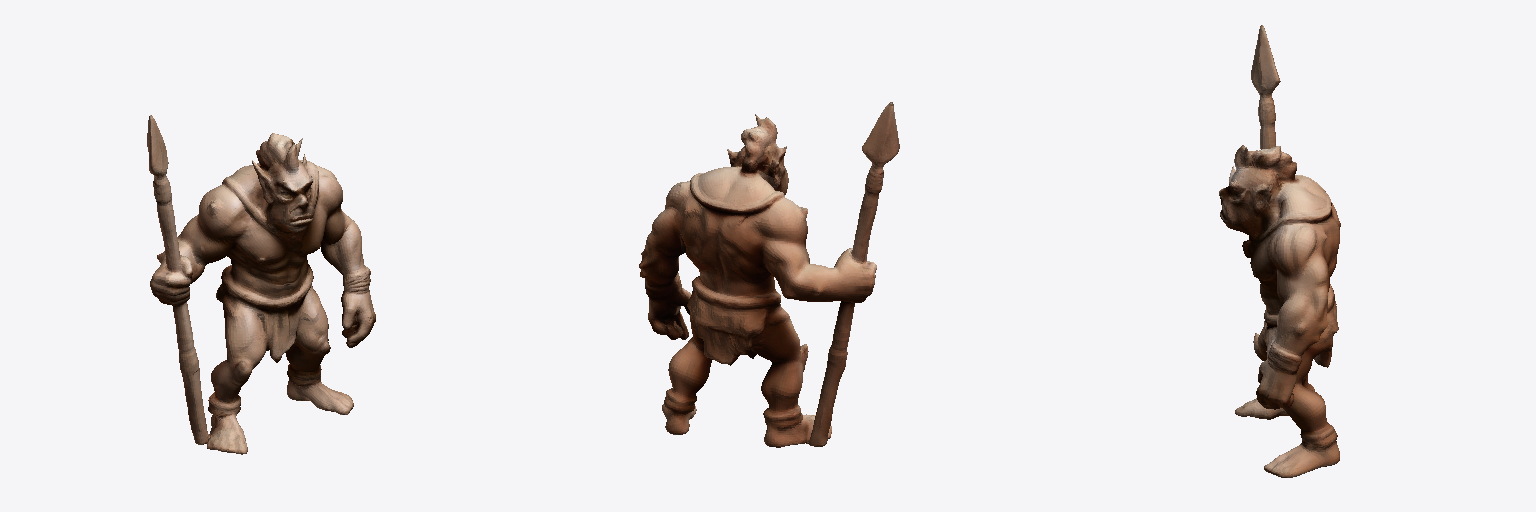
3 views of the same model, side by side, from view 1: azimuth 30°, elevation 25°; view 2: azimuth 150°, elevation 25°; view 3: azimuth 270°, elevation 25° (orthographic).
Visible parts, largest first — view 1: _clay_cyclops_with_[number redacted]_refine; view 2: _clay_cyclops_with_[number redacted]_refine; view 3: _clay_cyclops_with_[number redacted]_refine.
Part boxes in pixels (bbox=[...]): _clay_cyclops_with_[number redacted]_refine: bbox=[147, 115, 375, 454]; _clay_cyclops_with_[number redacted]_refine: bbox=[639, 102, 899, 447]; _clay_cyclops_with_[number redacted]_refine: bbox=[1219, 25, 1340, 477].
Size of the model in its own units: 1.41 by 1.99 by 0.6271.
1 materials, 1 textured.